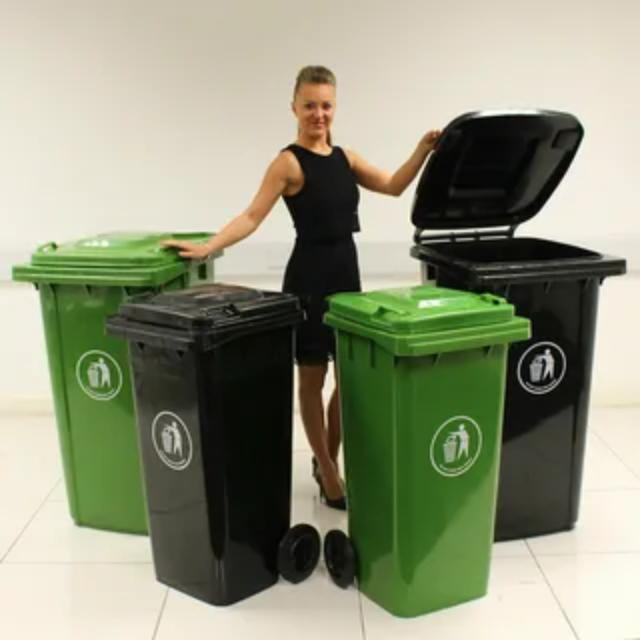Trash_Can_Closed: (107, 281, 320, 609), (326, 282, 532, 619), (14, 229, 222, 537)
Trash_Can_Empty: (413, 238, 622, 543)
